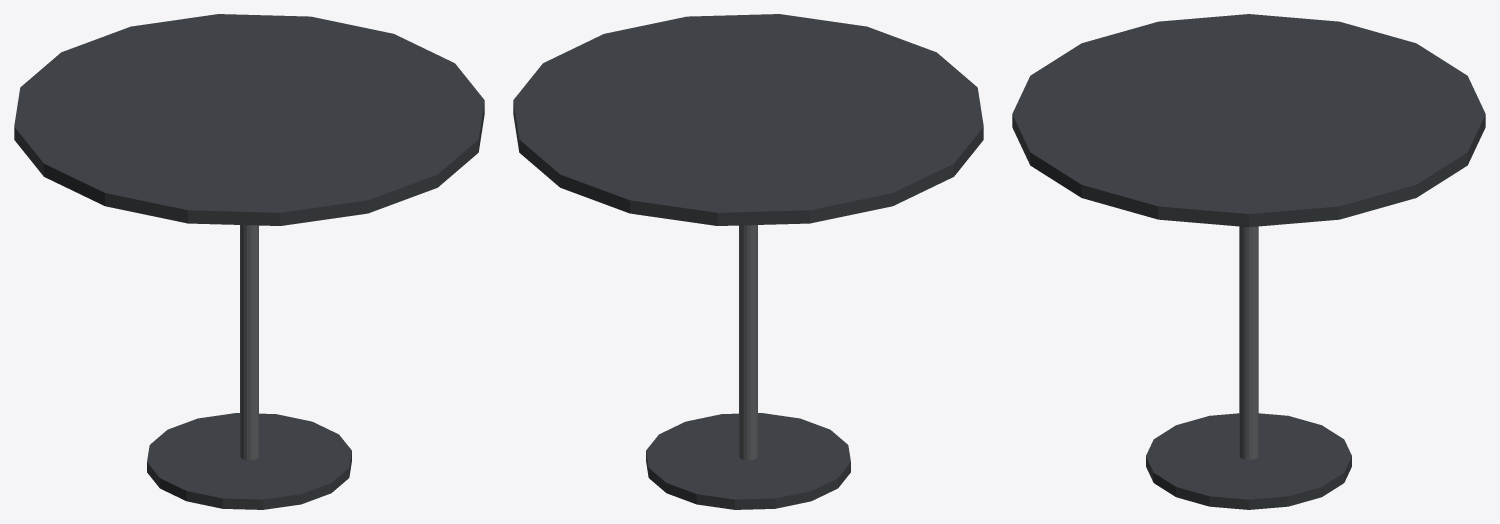
Rendered from Table_01_C3.fbx.
The picture shows the model from 3 angles, left to right: view 1: azimuth 30°, elevation 25°; view 2: azimuth 150°, elevation 25°; view 3: azimuth 270°, elevation 25°; orthographic projection.
Visible parts, largest first — view 1: Table_01_C3; view 2: Table_01_C3; view 3: Table_01_C3.
Part boxes in pixels (bbox=[...]): Table_01_C3: bbox=[14, 14, 484, 509]; Table_01_C3: bbox=[513, 14, 983, 509]; Table_01_C3: bbox=[1012, 14, 1485, 509].
Bounding box in the file's own units: 97.42 × 80 × 97.42.
